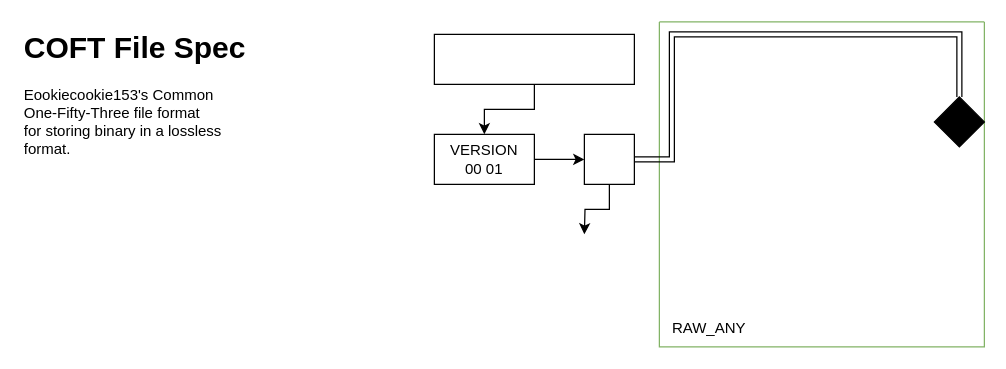
Some shapes in this 1006 by 369 pixel diagram are drawn without their labels. Here are the shapes that lost their labels. From the top down, the centre of each, then its label:
At (x=533, y=58): "HEADER 43 4F 46 54".
At (x=608, y=158): "TYPE 01".
